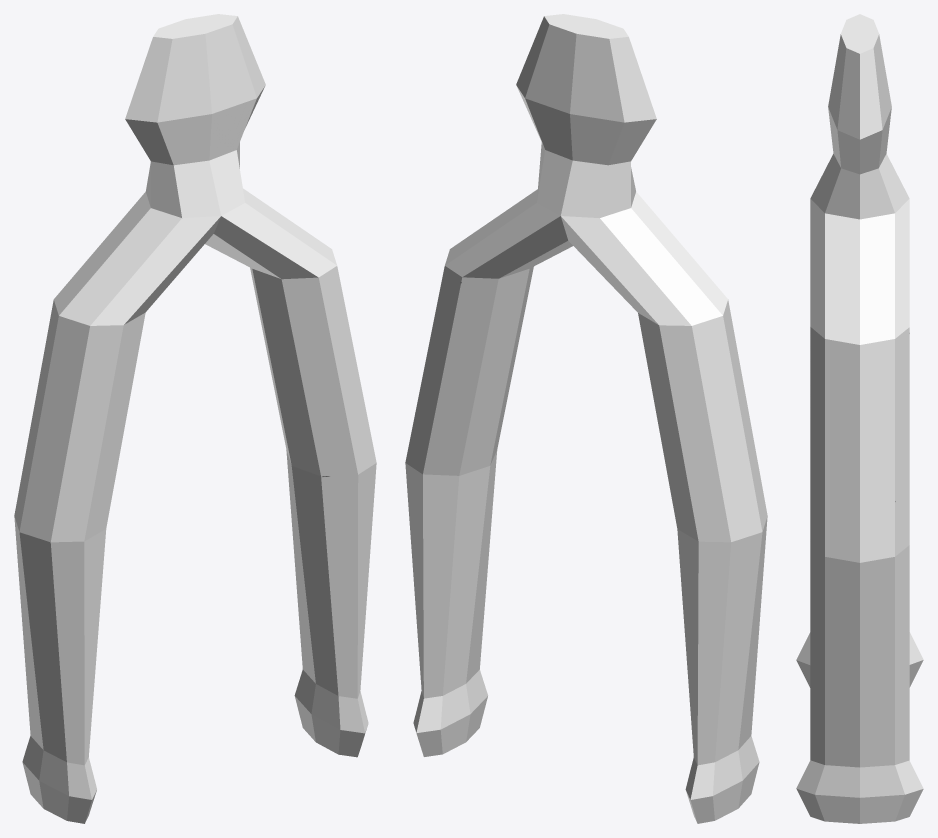
The model's file is bone3.obj.
3 views of the same model, side by side, from view 1: azimuth 30°, elevation 25°; view 2: azimuth 150°, elevation 25°; view 3: azimuth 270°, elevation 25° (orthographic). The views are drawn at different scales.
Parts seen in each view (by area): view 1: Cylinder; view 2: Cylinder; view 3: Cylinder.
Boxes of the visible parts, x1,y1,x2,y2 form: Cylinder: (14,14,376,823); Cylinder: (405,14,767,823); Cylinder: (796,14,923,823).
Bounding box in the file's own units: 7.89 × 15.97 × 2.57.
